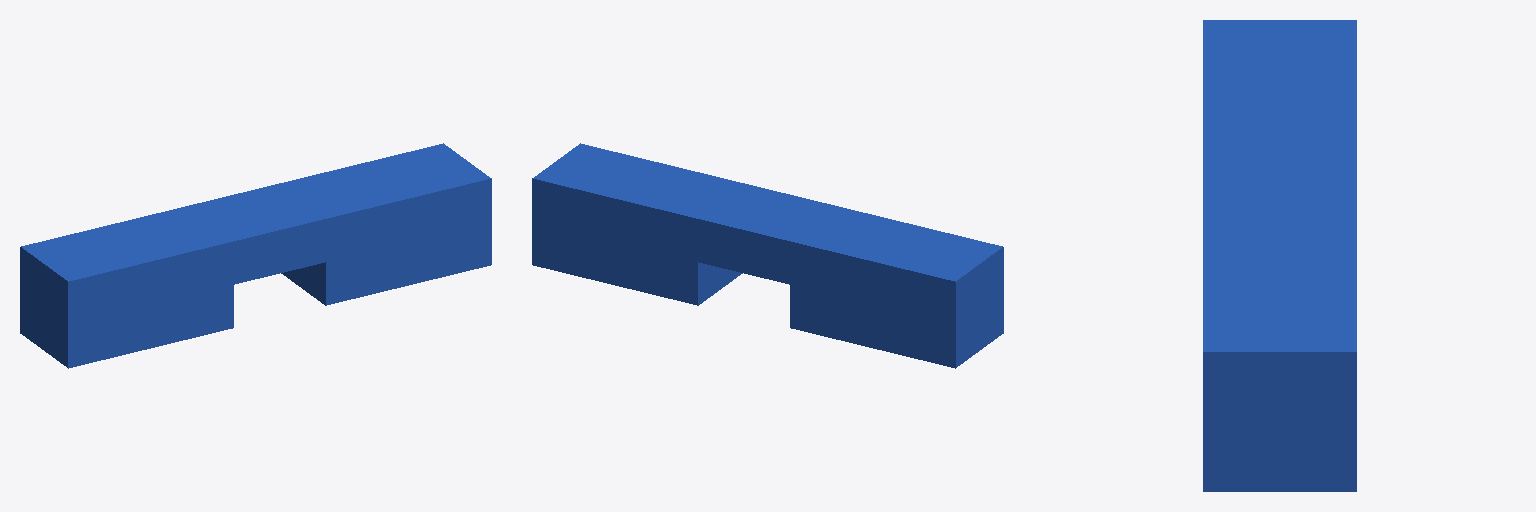
URDF robot description (obj_6):
<robot name="obj_6" version="1.0">
  <link name="obj_6">
    <collision name="medium-piece-2-collision.001">
      <origin rpy="0.00000 0.00000 0.00000" xyz="0.00000 0.00000 0.00000"/>
      <geometry>
        <mesh filename="../meshes/obj/medium-piece-2-collision.001.obj" scale="1.00000 1.00000 1.00000"/>
      </geometry>
    </collision>
    <collision name="medium-piece-2-collision.002">
      <origin rpy="0.00000 0.00000 0.00000" xyz="0.00000 0.00000 0.00000"/>
      <geometry>
        <mesh filename="../meshes/obj/medium-piece-2-collision.002.obj" scale="1.00000 1.00000 1.00000"/>
      </geometry>
    </collision>
    <collision name="medium-piece-2-collision.003">
      <origin rpy="0.00000 0.00000 0.00000" xyz="0.00000 0.00000 0.00000"/>
      <geometry>
        <mesh filename="../meshes/obj/medium-piece-2-collision.003.obj" scale="1.00000 1.00000 1.00000"/>
      </geometry>
    </collision>
    <inertial>
      <inertia ixx="0.00000" ixy="0.00000" ixz="-0.00000" iyy="0.00002" iyz="0.00000" izz="0.00002"/>
      <origin rpy="0.00000 0.00000 0.00000" xyz="-0.20413 0.23924 0.18264"/>
      <mass value="0.00400"/>
    </inertial>
    <visual name="medium-piece-2">
      <material name="turnarrow"/>
      <origin rpy="3.14159 0.00000 3.14159" xyz="-0.20413 0.23925 0.17488"/>
      <geometry>
        <mesh filename="../meshes/obj/medium-piece.002.obj" scale="0.00500 0.00500 0.00500"/>
      </geometry>
    </visual>
  </link>
  <material name="turnarrow">
    <color rgba="0.23137 0.44706 0.80000 1.00000"/>
  </material>
</robot>

--- What the picture shows (computed from the rendered views, not written in the file) ---
3 views of the same robot in one strip: view 1: azimuth 30°, elevation 25°; view 2: azimuth 150°, elevation 25°; view 3: azimuth 270°, elevation 25° (orthographic).
Model obj_6 with 1 links and 0 joints (none), rooted at obj_6, posed all joints at 0.
Links seen in each view (by area): view 1: obj_6; view 2: obj_6; view 3: obj_6.
Boxes of the visible links, <box> form: obj_6: <box>20,143,491,368</box>; obj_6: <box>532,143,1003,368</box>; obj_6: <box>1203,20,1356,491</box>.
Size in the robot's own frame: 0.255 by 0.05 by 0.05 metres.
Meshes: 1 distinct files referenced, 1 mesh visuals loaded (1 OBJ).